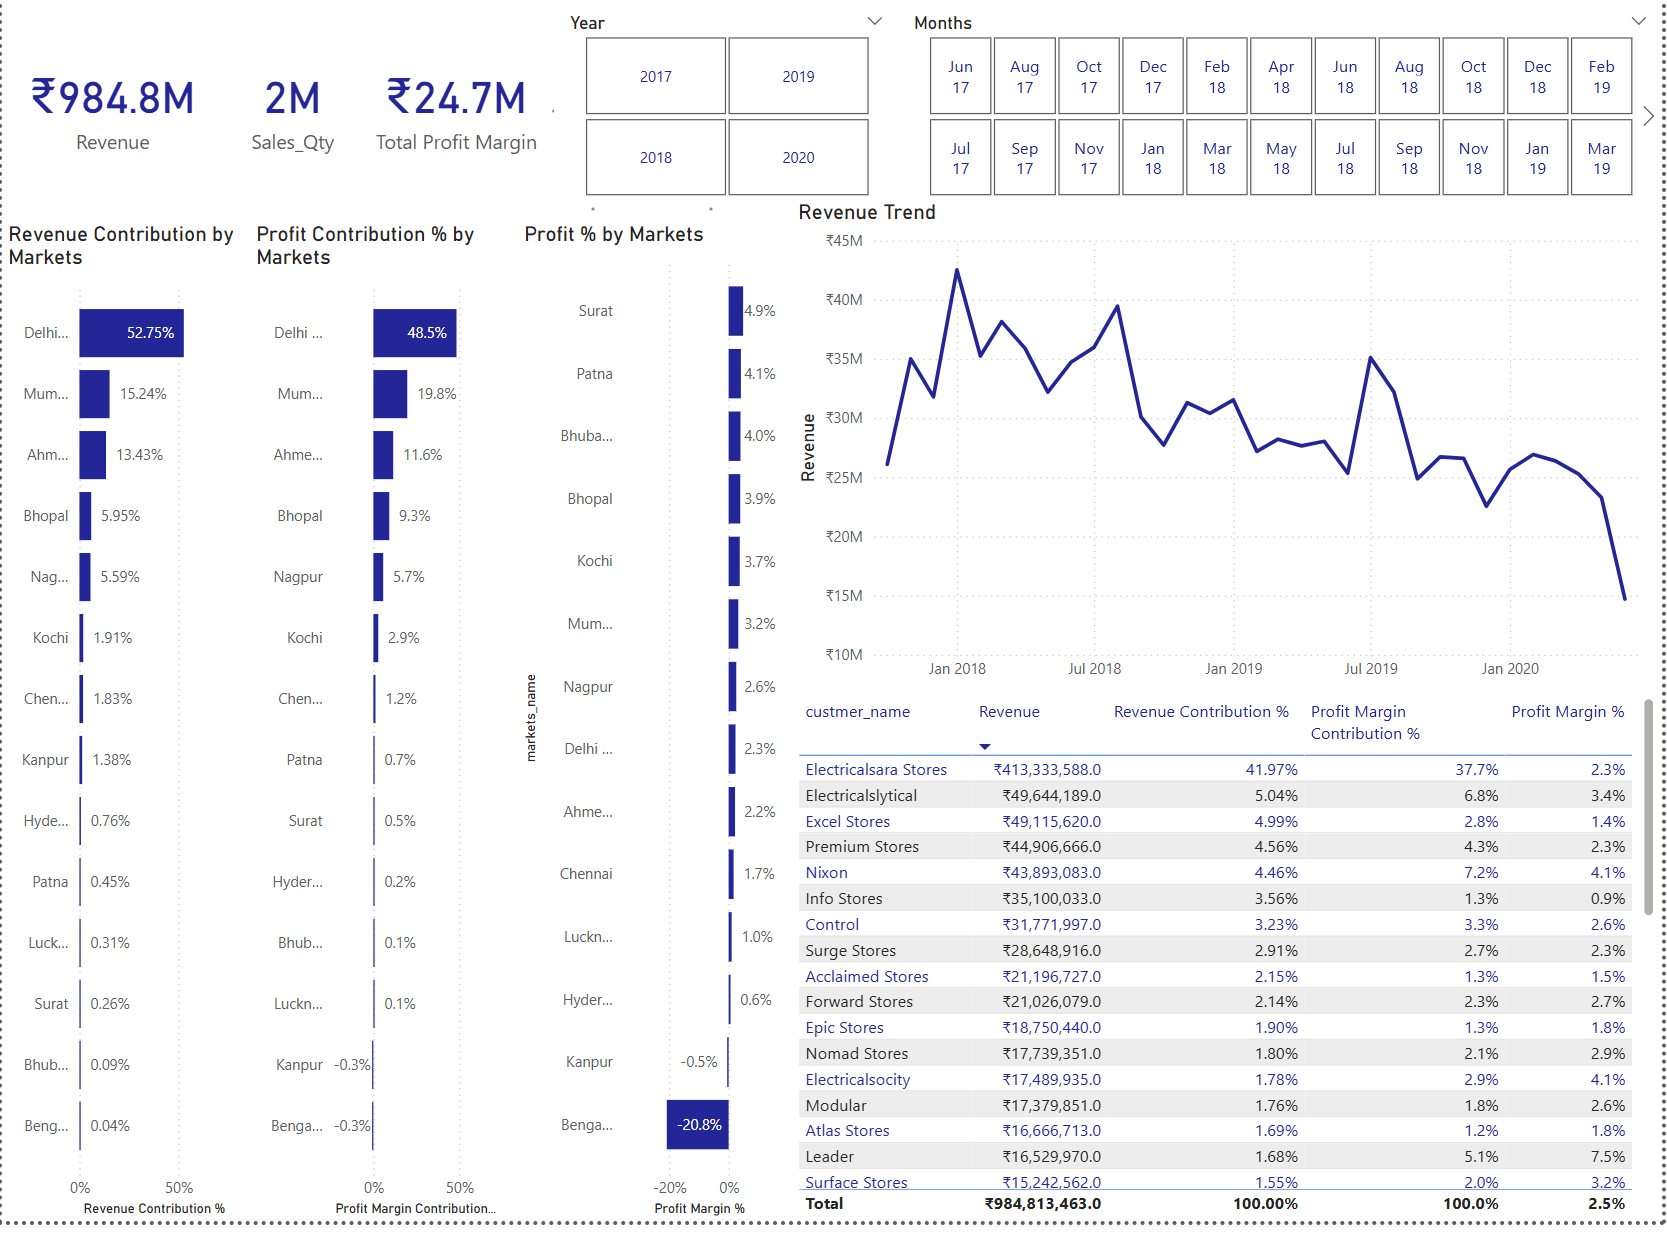

This screenshot's page, from the dashboard's own definition file:
{"tool":"powerbi","page":{"name":"Profit Analysis","canvas":[1350,1000],"ordinal":1},"visuals":[{"type":"card","fields":{"Values":["BaseMeasure.Revenue"]},"box":[0,0,180,186.7],"z":0},{"type":"card","fields":{"Values":["BaseMeasure.Sales_Qty"]},"box":[180,0,111.7,186.7],"z":1000},{"type":"barChart","title":"Revenue Contribution by Markets","fields":{"Category":["sales markets.markets_name"],"Y":["BaseMeasure.Revenue Contribution %"]},"box":[0,186.7,201.7,813.3],"z":2000},{"type":"barChart","title":"Profit % by Markets","fields":{"Category":["sales markets.markets_name"],"Y":["BaseMeasure.Profit Margin %"]},"box":[420,186.7,223.3,813.3],"z":3000},{"type":"slicer","fields":{"Values":["sales date.year"]},"box":[449.1,11.4,279.9,161.1],"z":4000},{"type":"slicer","fields":{"Values":["sales date.cy_date"]},"box":[728.9,11.4,621.6,161.1],"z":5000},{"type":"lineChart","title":"Revenue Trend","fields":{"Y":["BaseMeasure.Revenue"],"Category":["sales date.cy_date.Variation.Date Hierarchy.Year","sales date.cy_date.Variation.Date Hierarchy.Month"]},"box":[643.3,170,706.7,400],"z":6000},{"type":"tableEx","title":"Top 5 Customers","fields":{"Values":["sales customers.custmer_name","BaseMeasure.Revenue","BaseMeasure.Revenue Contribution %","BaseMeasure.Profit Margin Contribution %","BaseMeasure.Profit Margin %"]},"box":[643.3,570,706.7,430],"z":7000},{"type":"card","fields":{"Values":["BaseMeasure.Total Profit Margin"]},"box":[291.7,0,156.7,186.7],"z":8000},{"type":"barChart","title":"Profit Contribution % by Markets","fields":{"Category":["sales markets.markets_name"],"Y":["BaseMeasure.Profit Margin Contribution %"]},"box":[201.7,186.7,218.3,813.3],"z":9000}]}

Visuals, with their boxes in screenshot pixels (x1, y1, x2, y2), scaled from the page's 1350x1000 canvas onto the 1667x1254 screenshot:
card - BaseMeasure.Revenue: <box>0,0,222,234</box>
card - BaseMeasure.Sales_Qty: <box>222,0,360,234</box>
"Revenue Contribution by Markets" barChart: <box>0,234,249,1253</box>
"Profit % by Markets" barChart: <box>519,234,794,1253</box>
slicer - sales date.year: <box>555,14,900,216</box>
slicer - sales date.cy_date: <box>900,14,1666,216</box>
"Revenue Trend" lineChart: <box>794,213,1666,715</box>
"Top 5 Customers" tableEx: <box>794,715,1666,1253</box>
card - BaseMeasure.Total Profit Margin: <box>360,0,554,234</box>
"Profit Contribution % by Markets" barChart: <box>249,234,519,1253</box>
